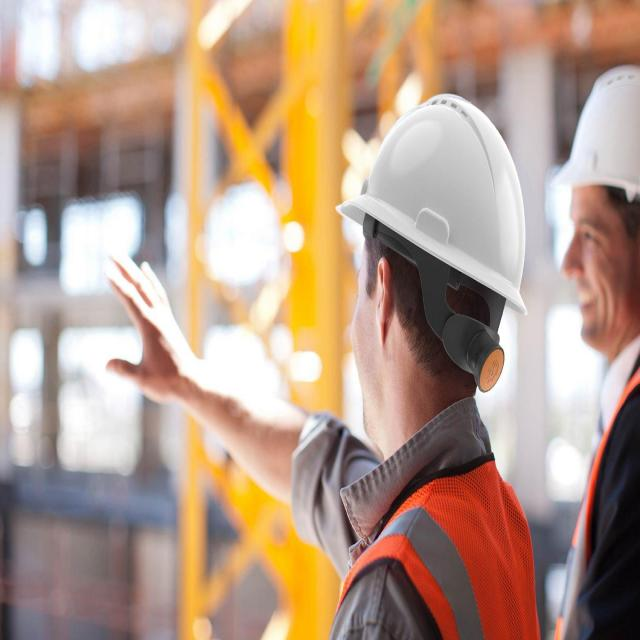Reflective-Jacket: (334, 409, 540, 640), (562, 315, 640, 639)
Safety-Helmet: (338, 89, 532, 312), (554, 58, 638, 219)
